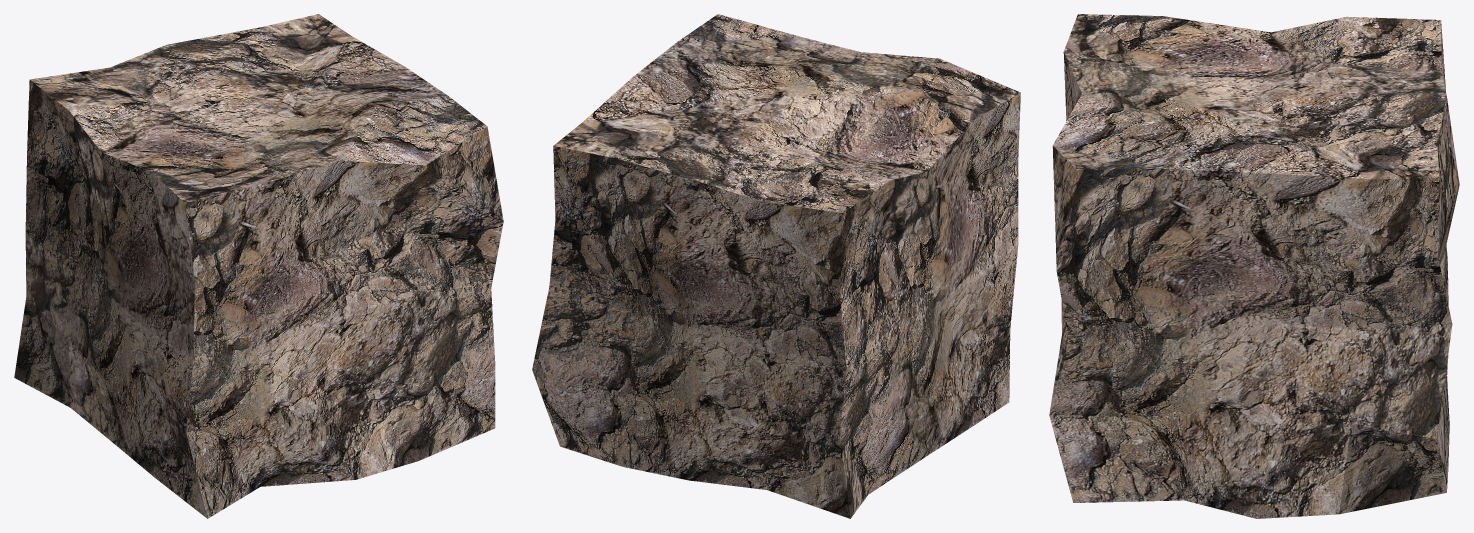
Rendered from Rock.glb.
3 views of the same model, side by side, from view 1: azimuth 30°, elevation 25°; view 2: azimuth 150°, elevation 25°; view 3: azimuth 270°, elevation 25° (orthographic). The views are drawn at different scales.
Parts seen in each view (by area): view 1: Cube; view 2: Cube; view 3: Cube.
Part boxes in pixels (x1,y1,x2,y2): Cube: (14,14,503,518); Cube: (532,14,1020,518); Cube: (1049,14,1459,518).
Size of the model in its own units: 2.18 by 2.09 by 2.21.
1 material, 1 textured.
